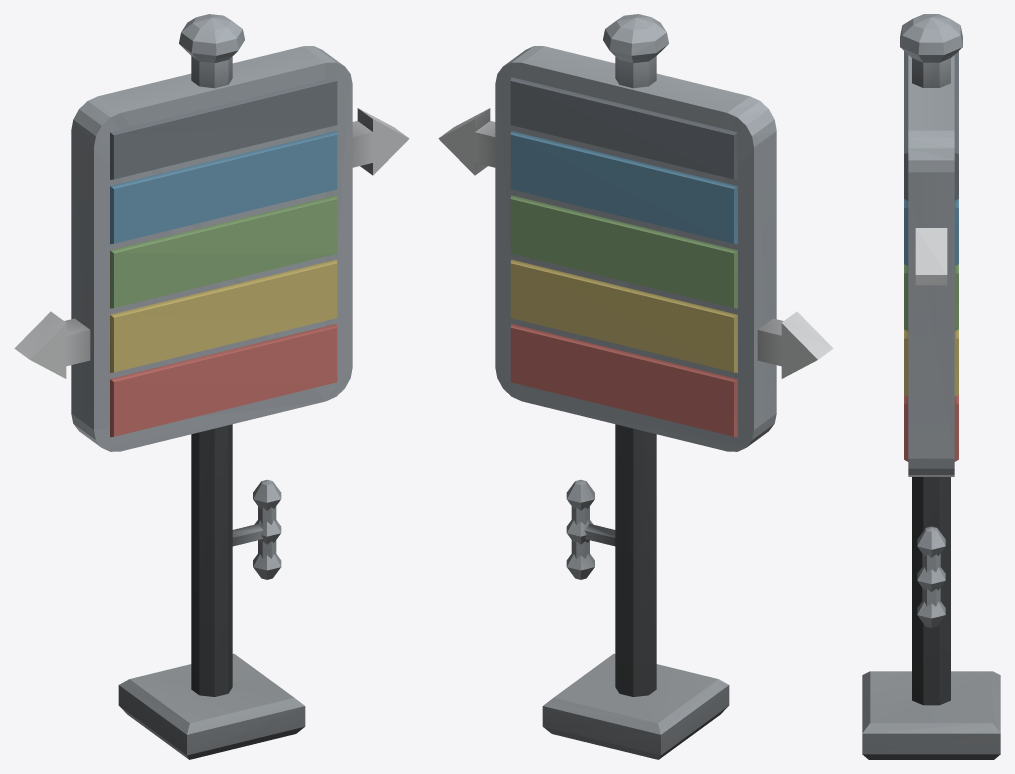
Rendered from totem.glb.
3 views of the same model, side by side, from view 1: azimuth 30°, elevation 25°; view 2: azimuth 150°, elevation 25°; view 3: azimuth 270°, elevation 25° (orthographic).
Visible parts, largest first — view 1: totem; view 2: totem; view 3: totem.
Part boxes in pixels (x1,y1,x2,y2): totem: (14,14,409,759); totem: (438,14,833,759); totem: (862,14,1000,759).
Bounding box in the file's own units: 1.35 × 2.4 × 0.42.
